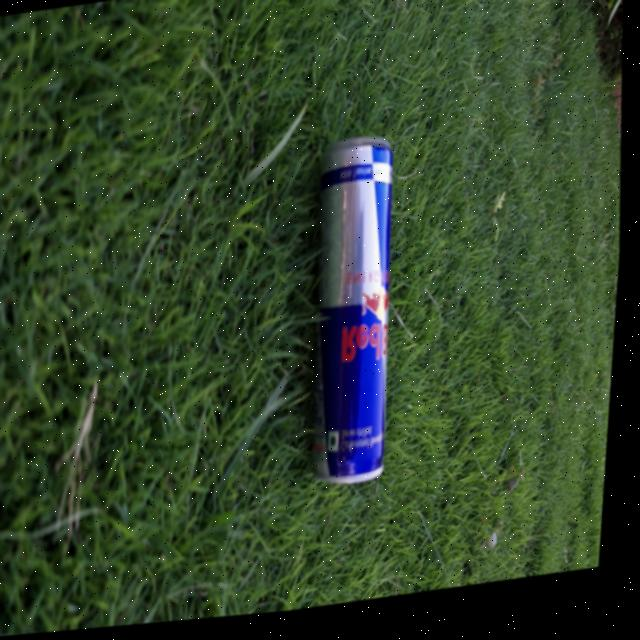Redbul: (300, 140, 421, 503)
